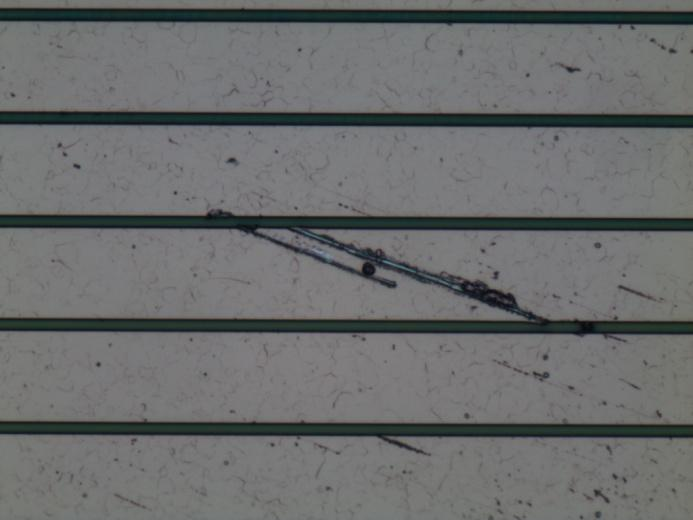SCRATCH: (106, 204, 687, 520)
